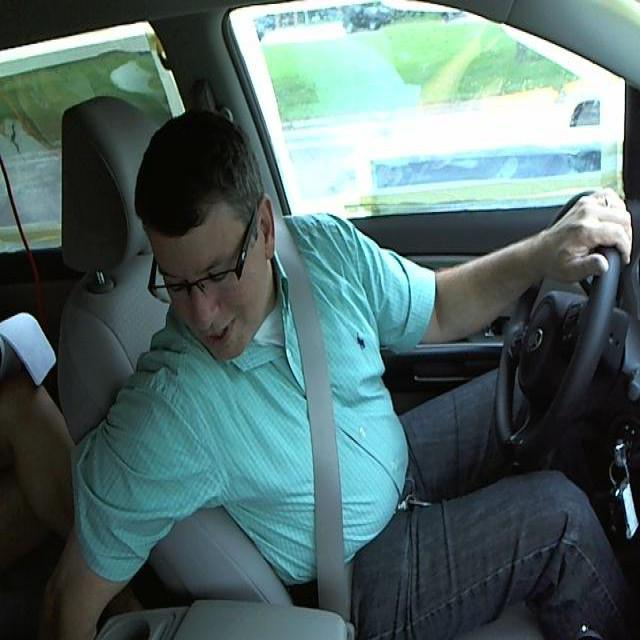seatbelt: (272, 283, 366, 620)
